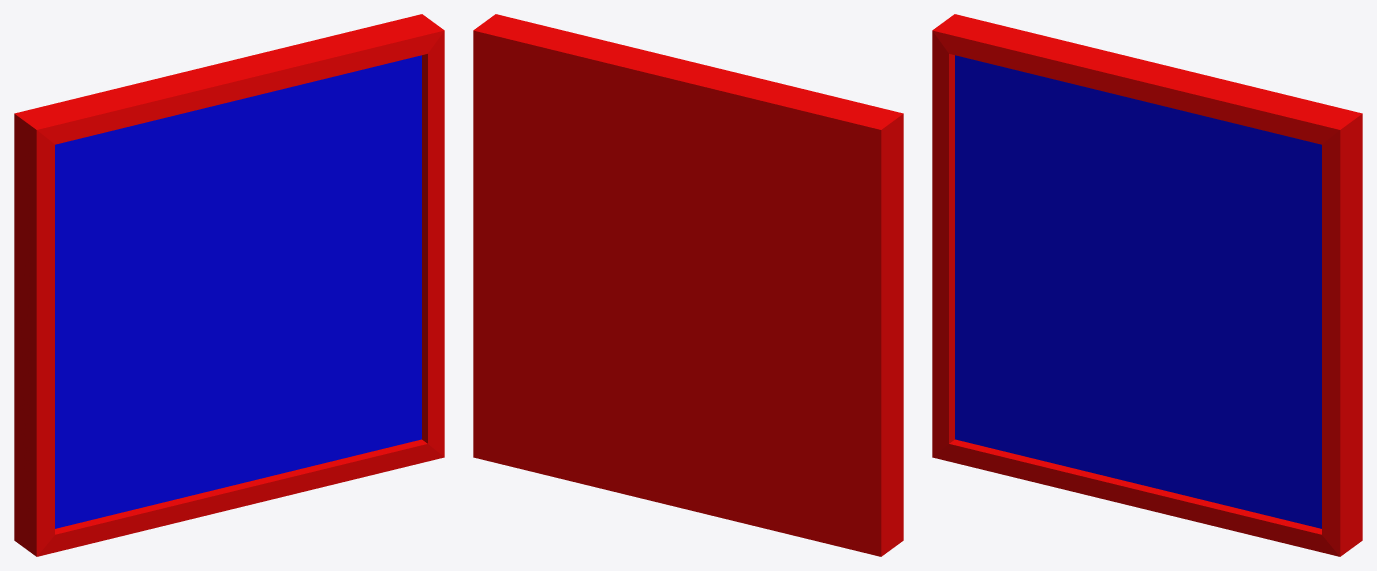
File: frame.fbx
3 renders of one model, left to right at view 1: azimuth 30°, elevation 25°; view 2: azimuth 150°, elevation 25°; view 3: azimuth 330°, elevation 25°, orthographic.
Visible parts, largest first — view 1: Cube; view 2: Cube; view 3: Cube.
Boxes of the visible parts, x1,y1,x2,y2 form: Cube: (14,14,444,556); Cube: (473,14,903,556); Cube: (932,14,1362,556).
Size of the model in its own units: 200 by 200 by 19.78.
